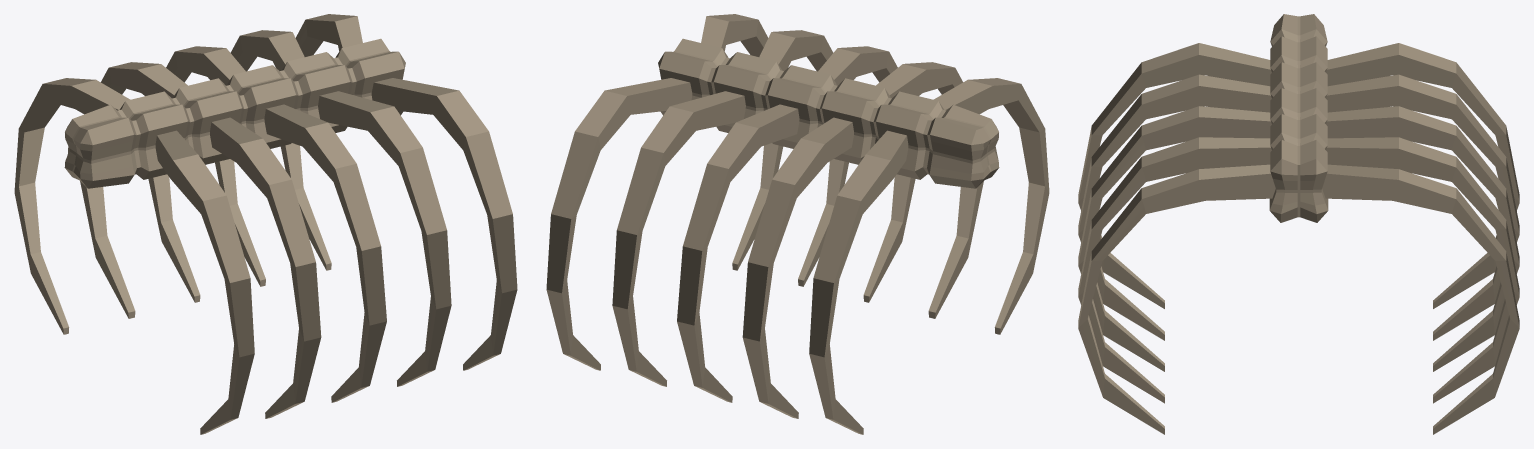
File: rib.fbx
3 views of the same model, side by side, from view 1: azimuth 30°, elevation 25°; view 2: azimuth 150°, elevation 25°; view 3: azimuth 270°, elevation 25° (orthographic).
Visible parts, largest first — view 1: rib bone; view 2: rib bone; view 3: rib bone.
Part boxes in pixels (bbox=[...]): rib bone: bbox=[14, 14, 517, 434]; rib bone: bbox=[546, 14, 1049, 434]; rib bone: bbox=[1078, 14, 1519, 434].
Bounding box in the file's own units: 155 × 122 × 179.
